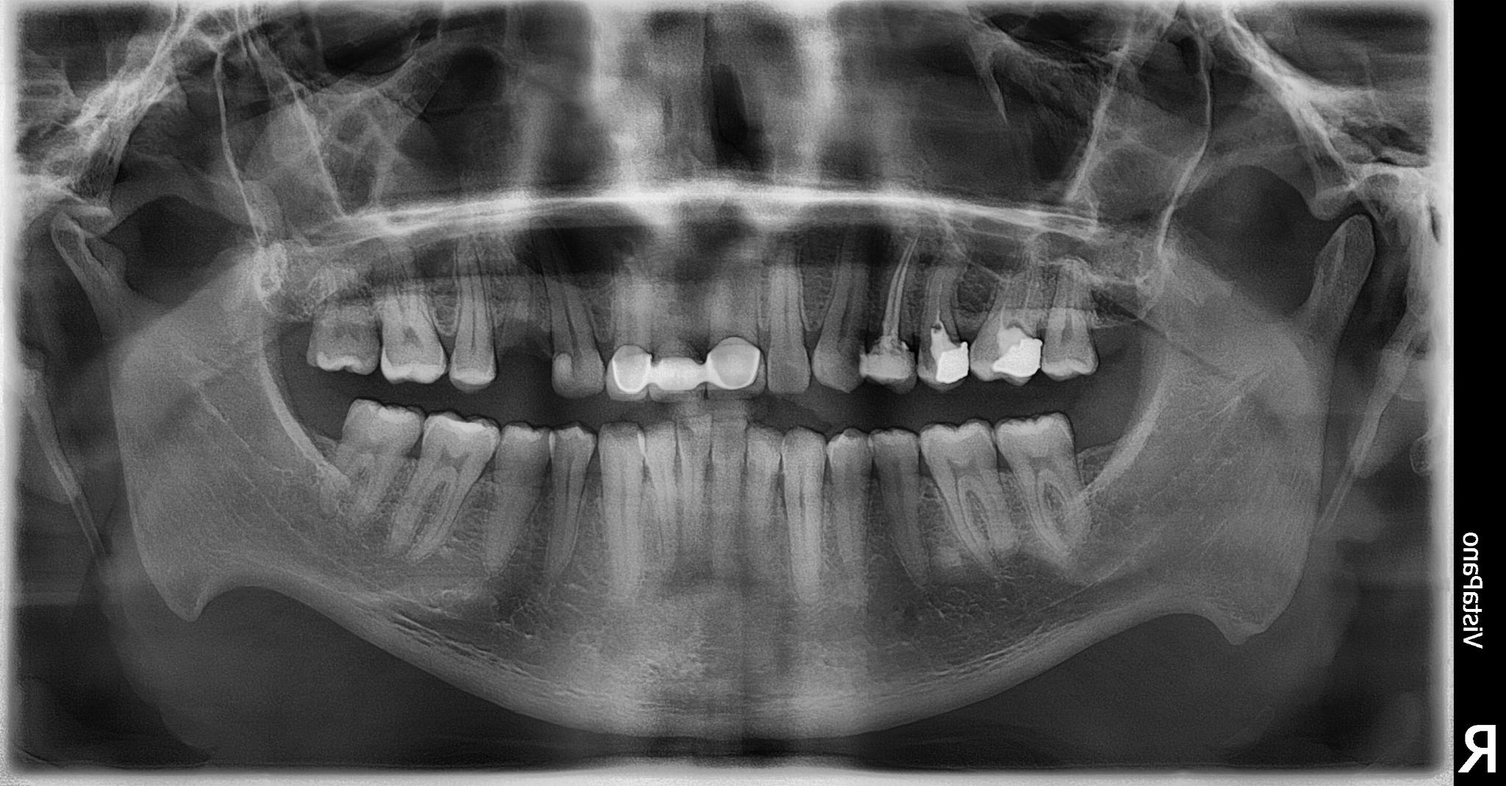Premolars: (505, 219, 1494, 635), (550, 186, 1506, 456), (516, 206, 1506, 463), (266, 216, 740, 622), (255, 105, 750, 429)
